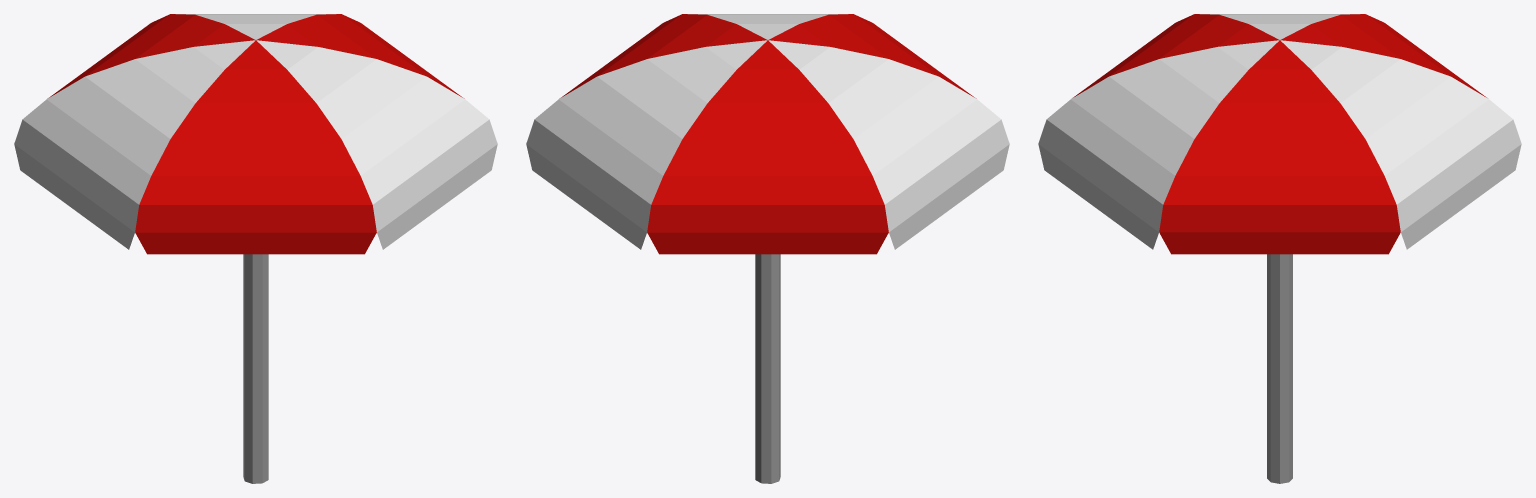
The model's file is Umbrella_1.fbx.
3 views of the same model, side by side, from view 1: azimuth 30°, elevation 25°; view 2: azimuth 150°, elevation 25°; view 3: azimuth 270°, elevation 25° (orthographic).
Visible parts, largest first — view 1: Top, Base; view 2: Top, Base; view 3: Top, Base.
Boxes of the visible parts, bbox=[...] form: Top: bbox=[14, 14, 497, 254]; Base: bbox=[243, 254, 268, 483]; Top: bbox=[526, 14, 1009, 254]; Base: bbox=[755, 254, 780, 483]; Top: bbox=[1038, 14, 1521, 254]; Base: bbox=[1267, 254, 1292, 483].
Bounding box in the file's own units: 173 × 200 × 200.
